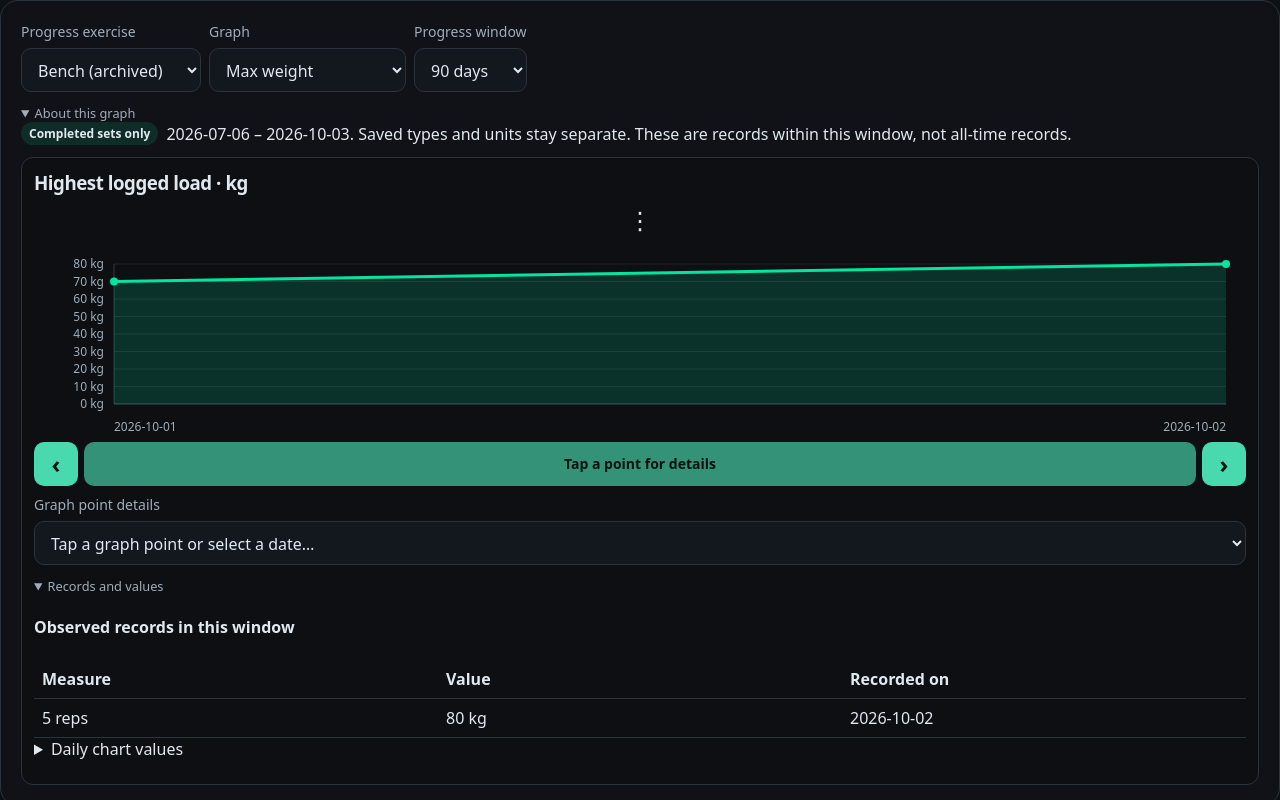
Test: offers all-time progress from summary endpoints without widening raw workout reads
Expected: the picture is shown, x1=34 y1=244 x2=1246 y2=434
Select "All time" in the dropdown labelled "Progress window": [470, 70] box x1=414 y1=48 x2=527 y2=92
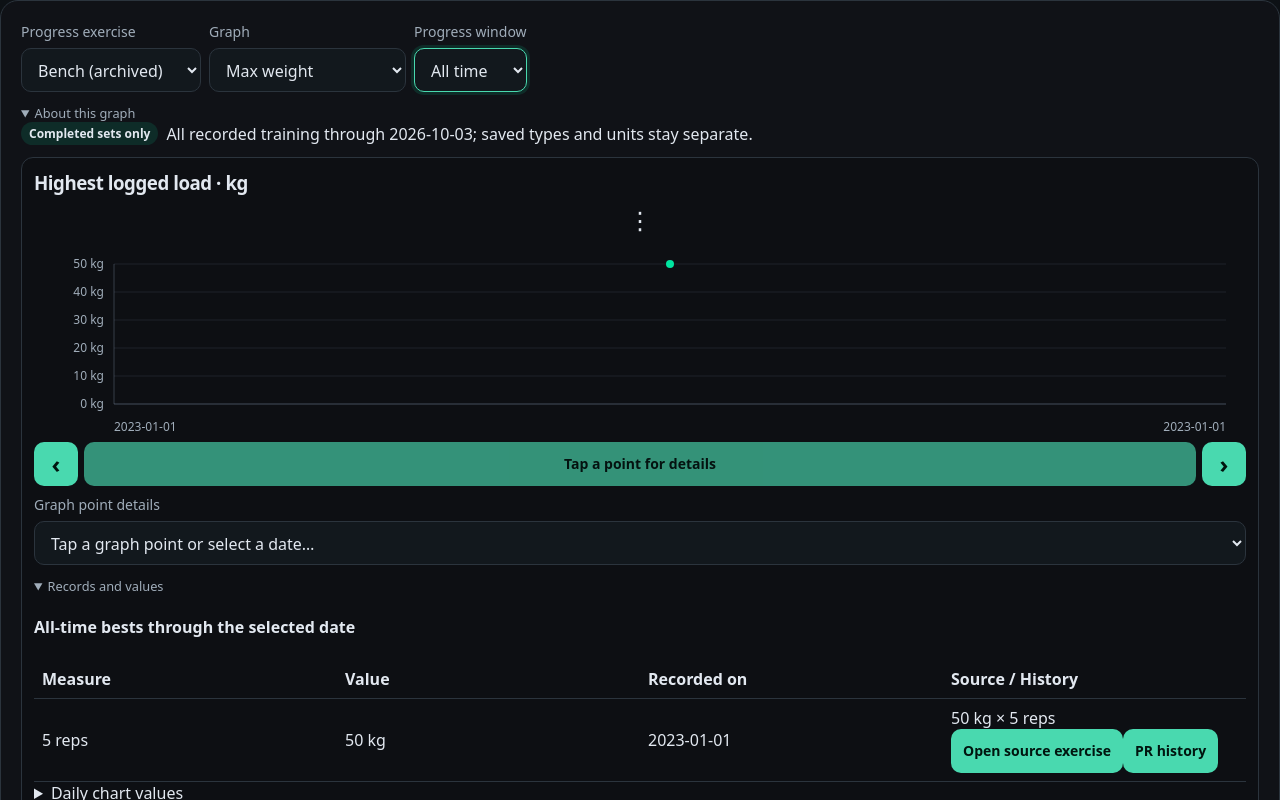
Now the row that starts with "5 reps" is shown, box x1=34 y1=698 x2=1246 y2=781
Now the text "All recorded training through 2026-10-03" is shown, box x1=166 y1=122 x2=753 y2=144
